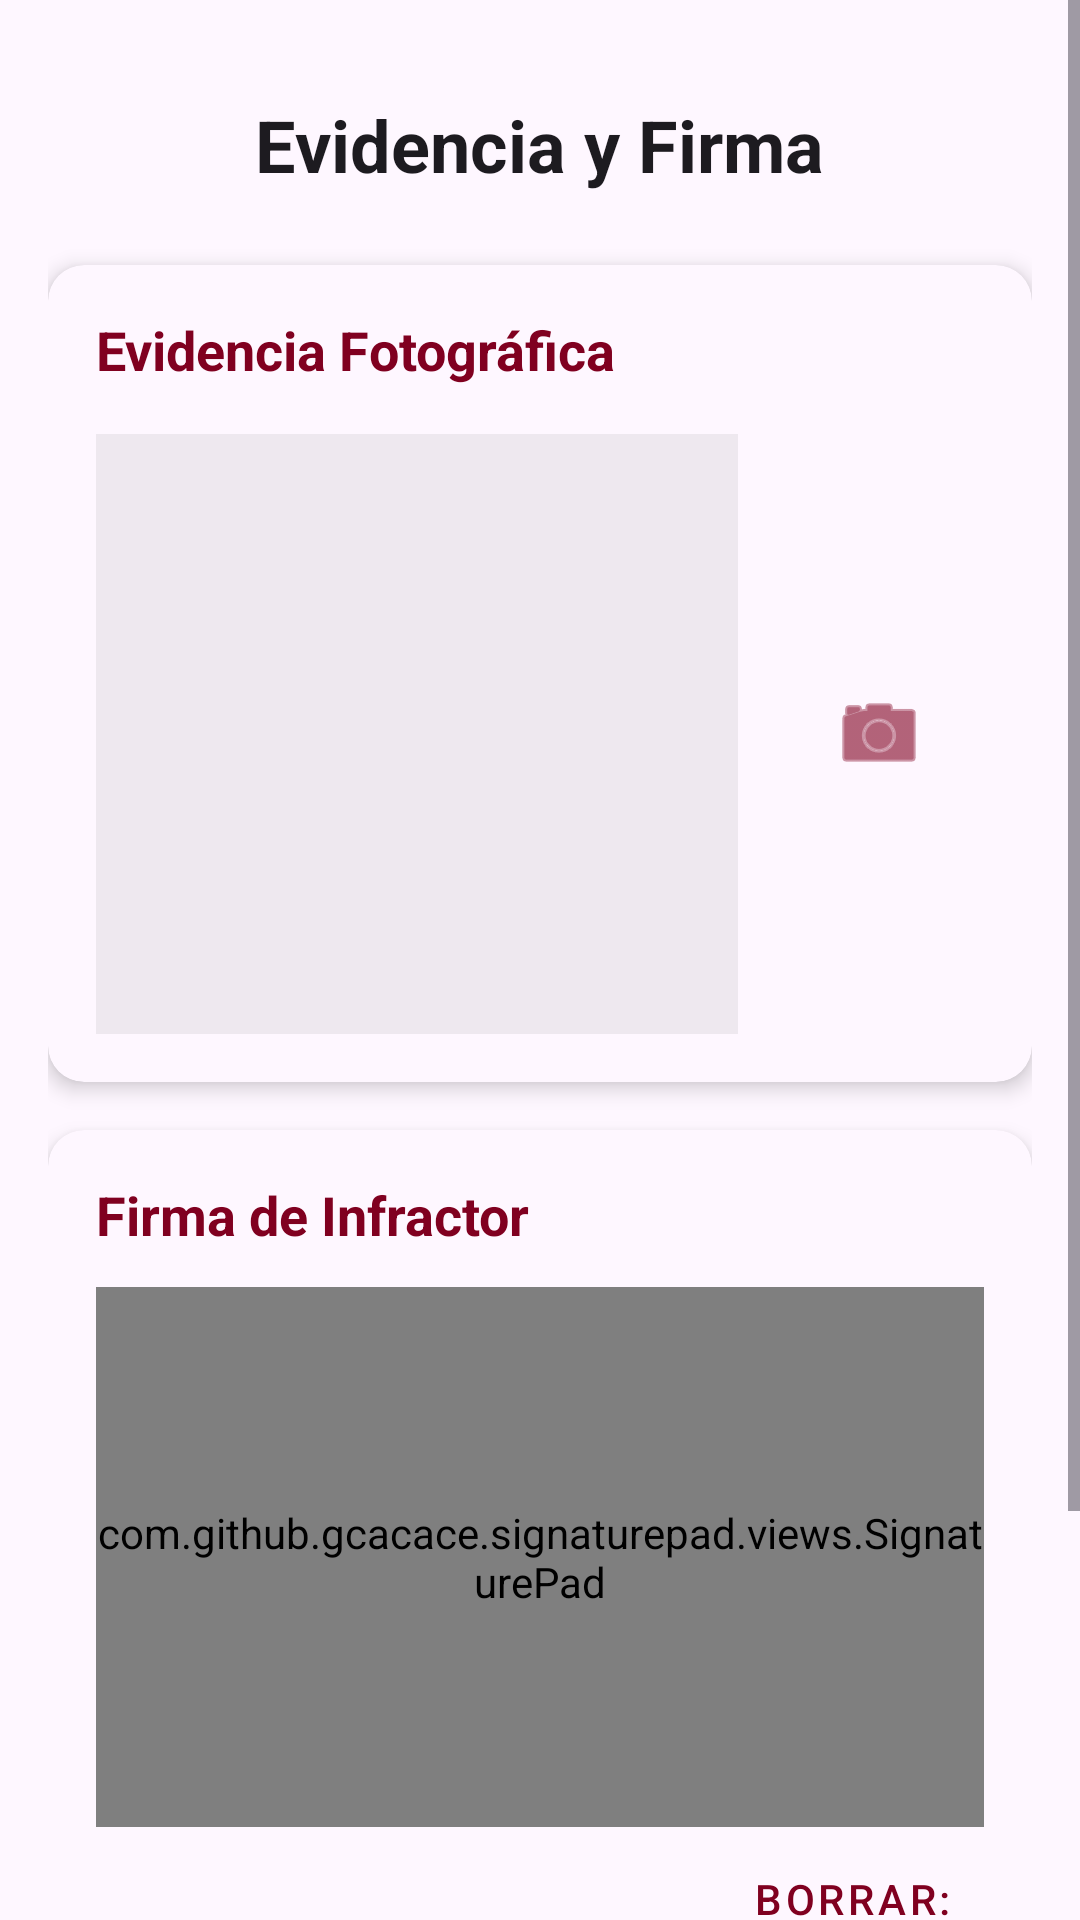

Screen size 1080w x 1920h. Icon name, then its center in pixels as (x,y):
camera: (879,732)
